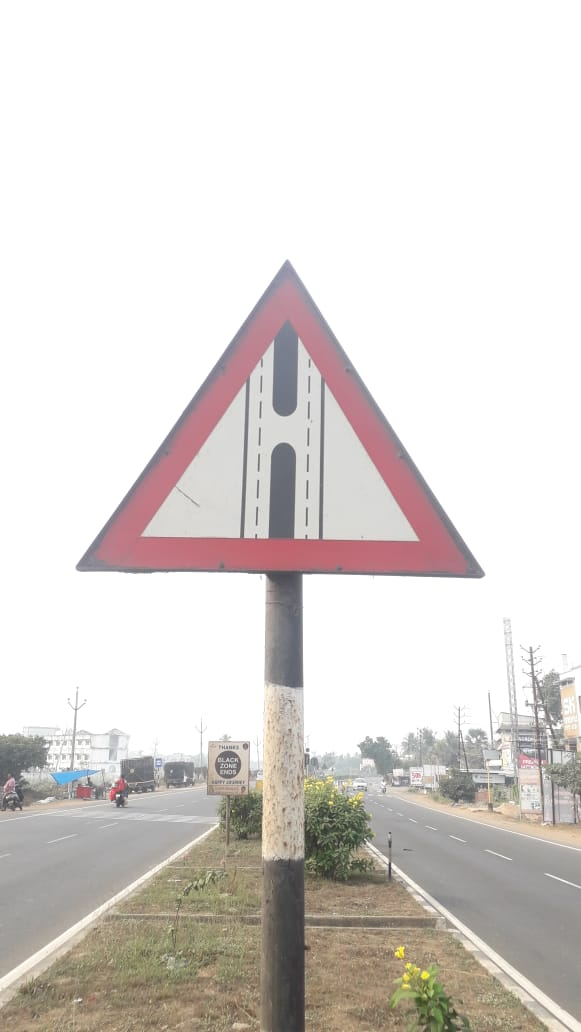highway go straight: (92, 238, 435, 587)
